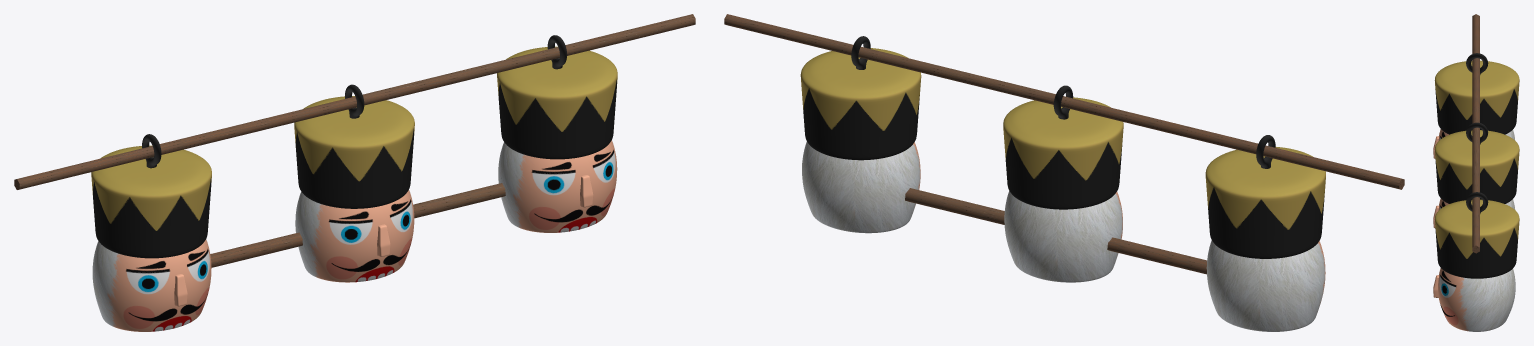
Rendered from cabeza.obj.
3 renders of one model, left to right at view 1: azimuth 30°, elevation 25°; view 2: azimuth 150°, elevation 25°; view 3: azimuth 270°, elevation 25°, orthographic. The views are drawn at different scales.
Visible parts, largest first — view 1: Nutcraker001, Nutcraker, Nutcraker002, Cylinder004, Cylinder006; view 2: Nutcraker001, Nutcraker, Nutcraker002, Cylinder004, Cylinder006; view 3: Nutcraker002, Nutcraker001, Nutcraker, Cylinder004.
Part boxes in pixels (x1,y1,x2,y2): Nutcraker001: (91,134,211,331); Nutcraker: (294,84,414,282); Nutcraker002: (497,35,617,232); Cylinder004: (14,14,695,189); Cylinder006: (210,183,505,267); Nutcraker001: (1205,135,1325,331); Nutcraker: (1003,85,1123,282); Nutcraker002: (800,36,921,233); Cylinder004: (724,14,1404,189); Cylinder006: (905,188,1206,274); Nutcraker002: (1433,192,1519,331); Nutcraker001: (1433,53,1519,158); Nutcraker: (1433,122,1519,227); Cylinder004: (1472,14,1479,253).
Size of the model in its own units: 25 by 6.28 by 3.93.
Materials: 2 (2 with a texture image).
